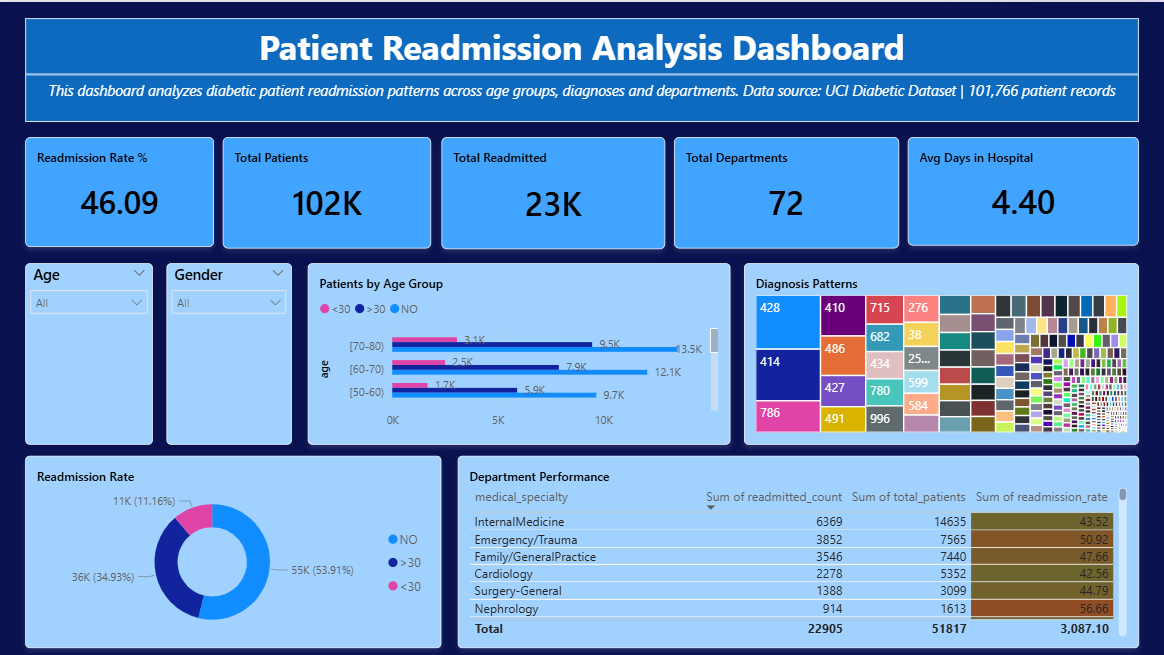

Layout of this report page (visuals, bound fields, positions):
{"tool":"powerbi","page":{"name":"Page 1","canvas":[1280,720],"ordinal":0},"visuals":[{"type":"donutChart","title":"Readmission Rate","fields":{"Category":["vw_age_group_analysis.readmitted"],"Y":["Sum(vw_age_group_analysis.total_patients)"]},"box":[28.8,498.1,456.9,211.3],"z":0},{"type":"clusteredBarChart","title":"Patients by Age Group","fields":{"Category":["vw_age_group_analysis.age"],"Y":["Sum(vw_age_group_analysis.total_patients)"],"Series":["vw_age_group_analysis.readmitted"]},"box":[338.9,286.8,463.8,199],"z":1000},{"type":"treemap","title":"Diagnosis Patterns","fields":{"Group":["vw_diagnosis_patterns.diag_1"],"Values":["Sum(vw_diagnosis_patterns.total_cases)"]},"box":[817.8,286.8,433.6,199],"z":2000},{"type":"tableEx","title":"Department Performance","fields":{"Values":["vw_department_performance.medical_specialty","Sum(vw_department_performance.readmitted_count)","Sum(vw_department_performance.total_patients)","Sum(vw_department_performance.readmission_rate)"]},"box":[503.6,498.1,747.9,211.3],"z":3000},{"type":"card","title":"Total Patients","fields":{"Values":["Sum(vw_age_group_analysis.total_patients)"]},"box":[245.6,148.2,229.2,122.1],"z":4000},{"type":"card","title":"Total Readmitted","fields":{"Values":["Sum(vw_department_performance.readmitted_count)"]},"box":[485.8,148.2,245.6,123.5],"z":5000},{"type":"slicer","fields":{"Values":["vw_age_group_analysis.age"]},"box":[28.8,286.8,140,199],"z":6000},{"type":"slicer","fields":{"Values":["diabetic_data.gender"]},"box":[183.9,286.8,137.2,199],"z":7000},{"type":"textbox","box":[28.8,17.8,1222.6,61.7],"z":8000},{"type":"textbox","box":[28.8,79.6,1222.6,52.1],"z":9000},{"type":"card","title":"Avg Days in Hospital","fields":{"Values":["diabetic_data.Avg Stay"]},"box":[997.6,148.2,253.9,119.4],"z":10000},{"type":"card","title":"Total Departments","fields":{"Values":["CountNonNull(vw_department_performance.medical_specialty)"]},"box":[741,148.2,247,122.1],"z":11000},{"type":"card","title":"Readmission Rate %","fields":{"Values":["diabetic_data.Readmission Rate %"]},"box":[28.8,148.2,207.2,120.8],"z":12000}]}

Visuals, with their boxes in screenshot pixels (x1, y1, x2, y2), scaled from the page's 1280x720 canvas onto the 1164x655 screenshot:
"Readmission Rate" donutChart: box(26, 453, 442, 645)
"Patients by Age Group" clusteredBarChart: box(308, 261, 730, 442)
"Diagnosis Patterns" treemap: box(744, 261, 1138, 442)
"Department Performance" tableEx: box(458, 453, 1138, 645)
"Total Patients" card: box(223, 135, 432, 246)
"Total Readmitted" card: box(442, 135, 665, 247)
slicer - vw_age_group_analysis.age: box(26, 261, 154, 442)
slicer - diabetic_data.gender: box(167, 261, 292, 442)
textbox: box(26, 16, 1138, 72)
textbox: box(26, 72, 1138, 120)
"Avg Days in Hospital" card: box(907, 135, 1138, 243)
"Total Departments" card: box(674, 135, 898, 246)
"Readmission Rate %" card: box(26, 135, 215, 245)
